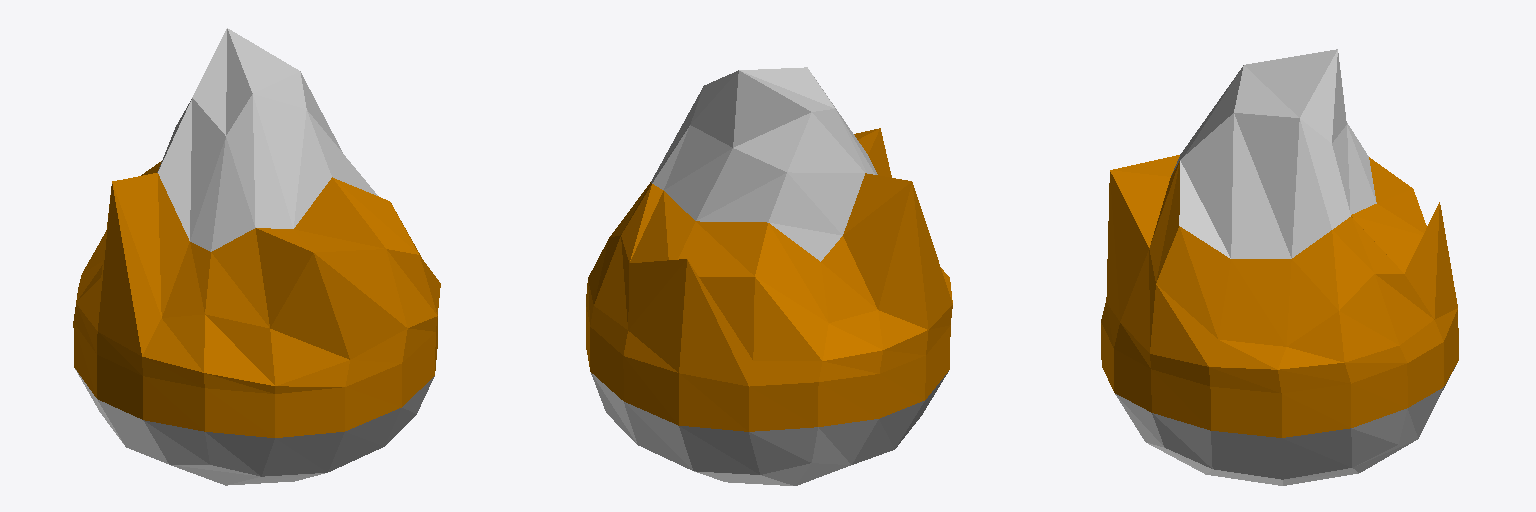
The model's file is flamess1.obj.
3 views of the same model, side by side, from view 1: azimuth 30°, elevation 25°; view 2: azimuth 150°, elevation 25°; view 3: azimuth 270°, elevation 25° (orthographic).
Parts seen in each view (by area): view 1: Cube.002; view 2: Cube.002; view 3: Cube.002.
Boxes of the visible parts, x1=… form: Cube.002: x1=73, y1=28, x2=440, y2=485; Cube.002: x1=586, y1=67, x2=952, y2=485; Cube.002: x1=1101, y1=49, x2=1458, y2=485.
Bounding box in the file's own units: 1.43 × 1.77 × 1.39.